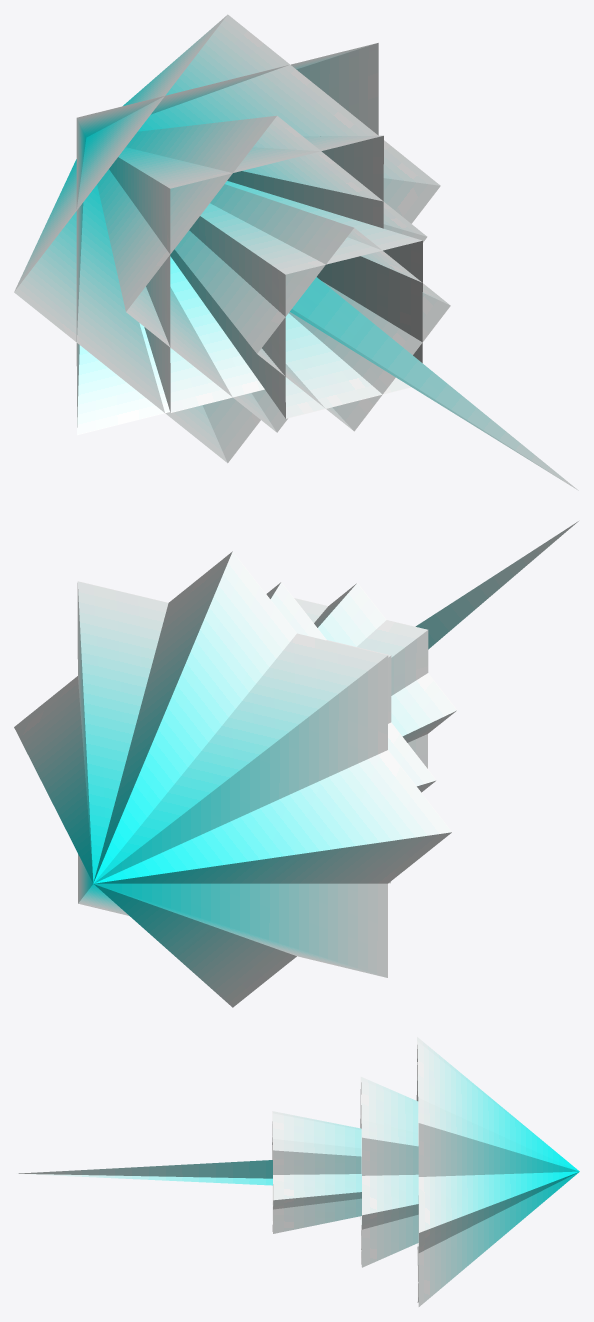
The model's file is plasmaProj.obj.
3 views of the same model, one above another, from view 1: azimuth 30°, elevation 25°; view 2: azimuth 150°, elevation 25°; view 3: azimuth 270°, elevation 25° (orthographic). The views are drawn at different scales.
Visible parts, largest first — view 1: plasma_proj_Mesh.034; view 2: plasma_proj_Mesh.034; view 3: plasma_proj_Mesh.034.
Part boxes in pixels (box(x1,y1,x2,y2)): plasma_proj_Mesh.034: box(14, 14, 578, 490); plasma_proj_Mesh.034: box(14, 521, 578, 1007); plasma_proj_Mesh.034: box(16, 1037, 579, 1306).
Bounding box in the file's own units: 0.2076 × 0.2076 × 0.4073.
Materials: 1 (1 with a texture image).
